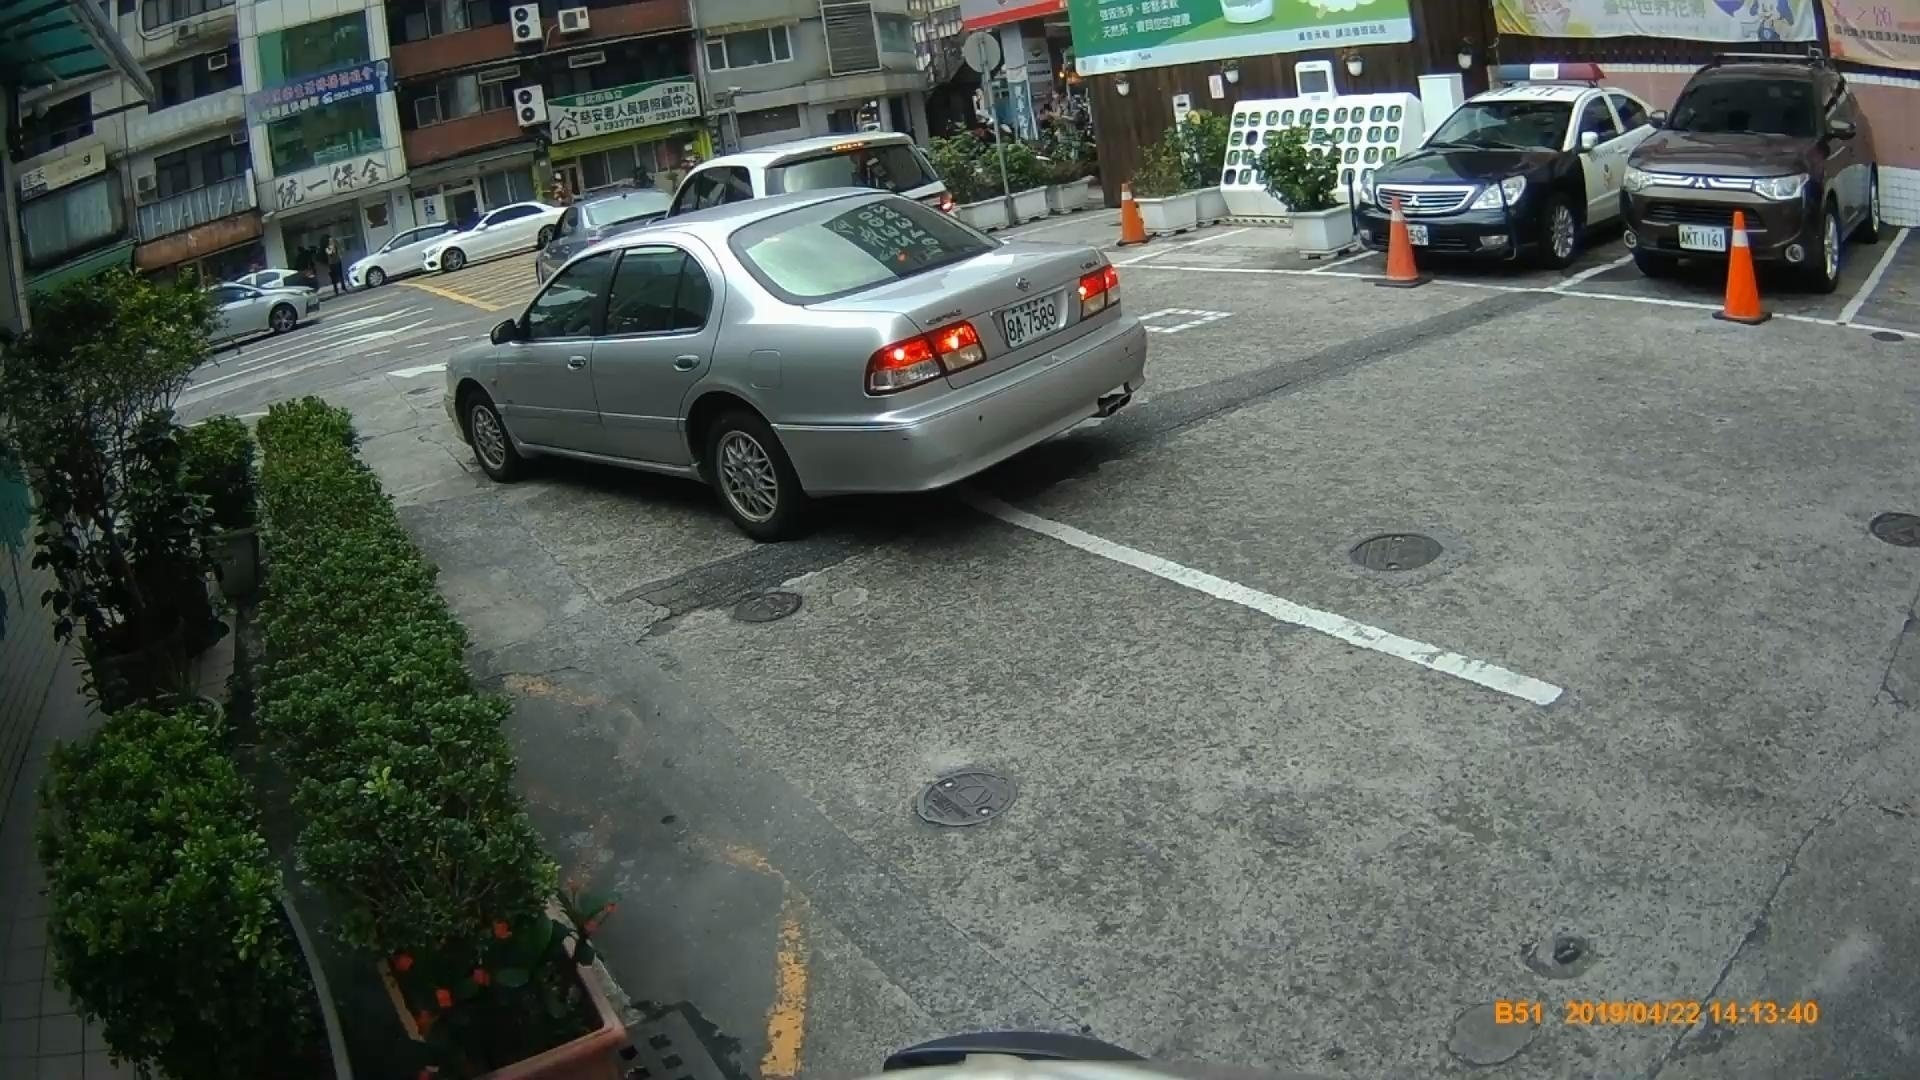License_plate: (983, 295, 1074, 346), (1676, 221, 1726, 253)
